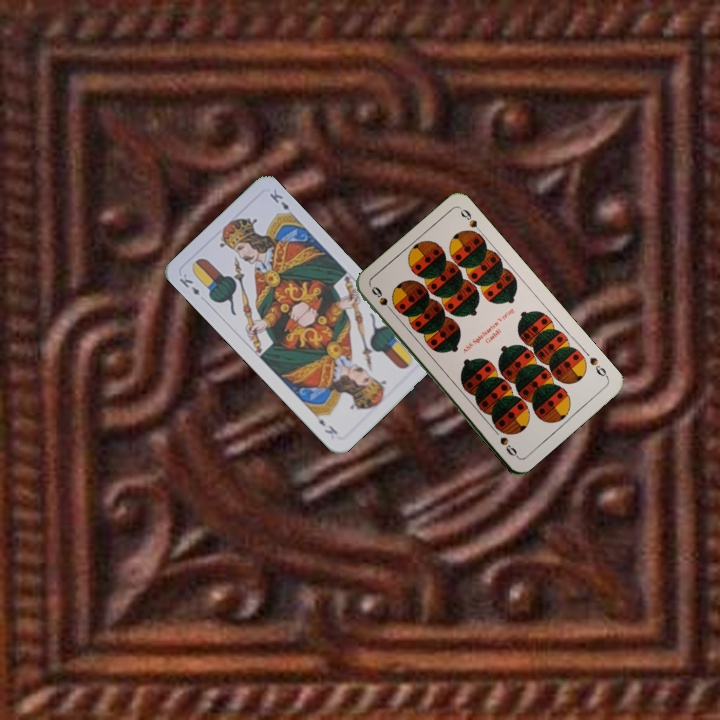EK: (175, 269, 203, 298)
S9: (367, 282, 398, 317), (585, 353, 611, 382)
